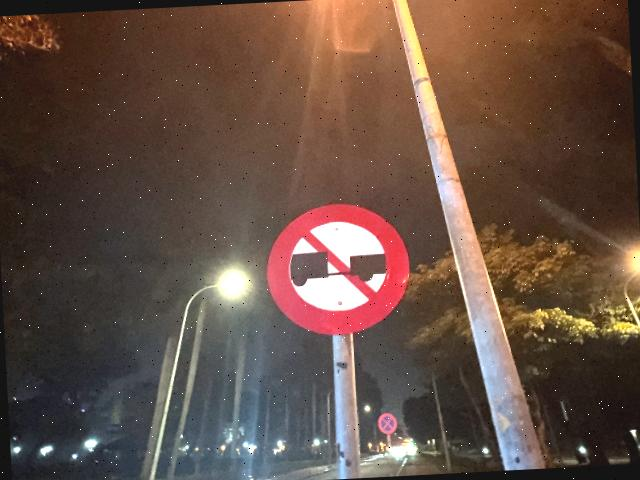cam-xe-somi-romooc: (264, 200, 414, 338)
